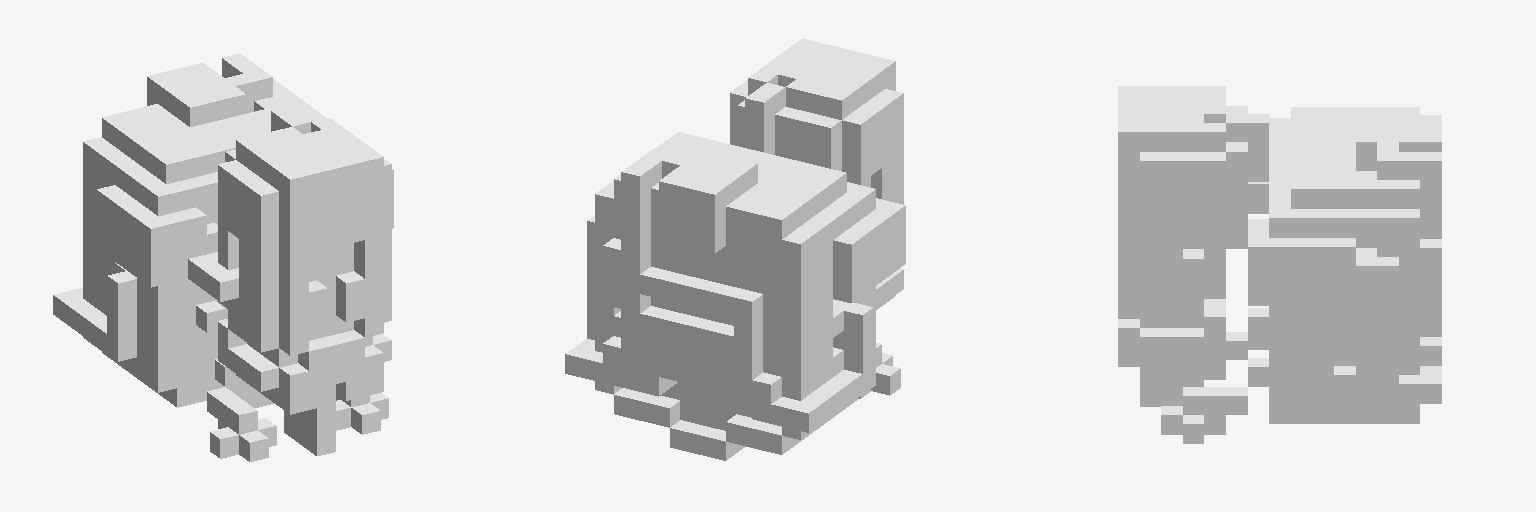
The model's file is EnemyBomberBody.obj.
3 views of the same model, side by side, from view 1: azimuth 30°, elevation 25°; view 2: azimuth 150°, elevation 25°; view 3: azimuth 270°, elevation 25° (orthographic).
Parts seen in each view (by area): view 1: object 1; view 2: object 1; view 3: object 1.
Boxes of the visible parts, x1,y1,x2,y2 form: object 1: [53, 53, 393, 461]; object 1: [565, 38, 905, 460]; object 1: [1118, 86, 1441, 443].
Bounding box in the file's own units: 1.3 × 1.5 × 1.5.